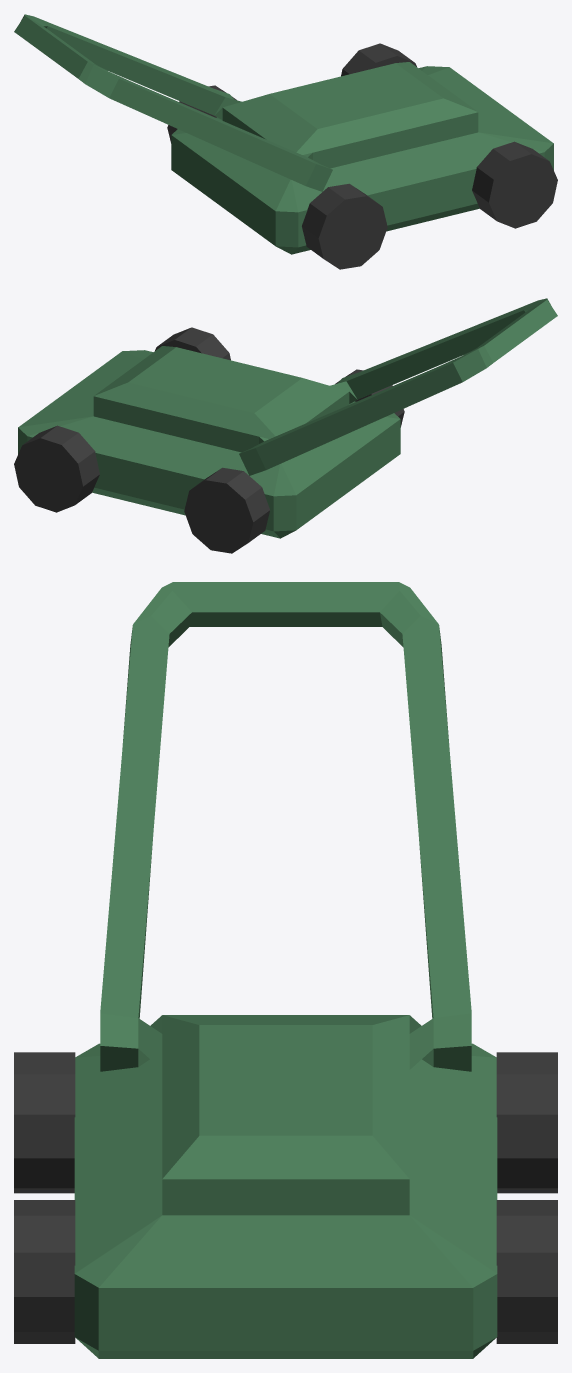
The model's file is LawnMower.fbx.
3 views of the same model, one above another, from view 1: azimuth 30°, elevation 25°; view 2: azimuth 150°, elevation 25°; view 3: azimuth 270°, elevation 25° (orthographic). The views are drawn at different scales.
Parts seen in each view (by area): view 1: Mower, Wheels; view 2: Mower, Wheels; view 3: Mower, Wheels.
Part boxes in pixels (x1,y1,x2,y2): Mower: (14,14,553,254); Wheels: (167,43,557,269); Mower: (18,298,557,538); Wheels: (14,327,404,553); Mower: (74,582,497,1358); Wheels: (14,1052,557,1343).
Bounding box in the file's own units: 224 × 107 × 129.
